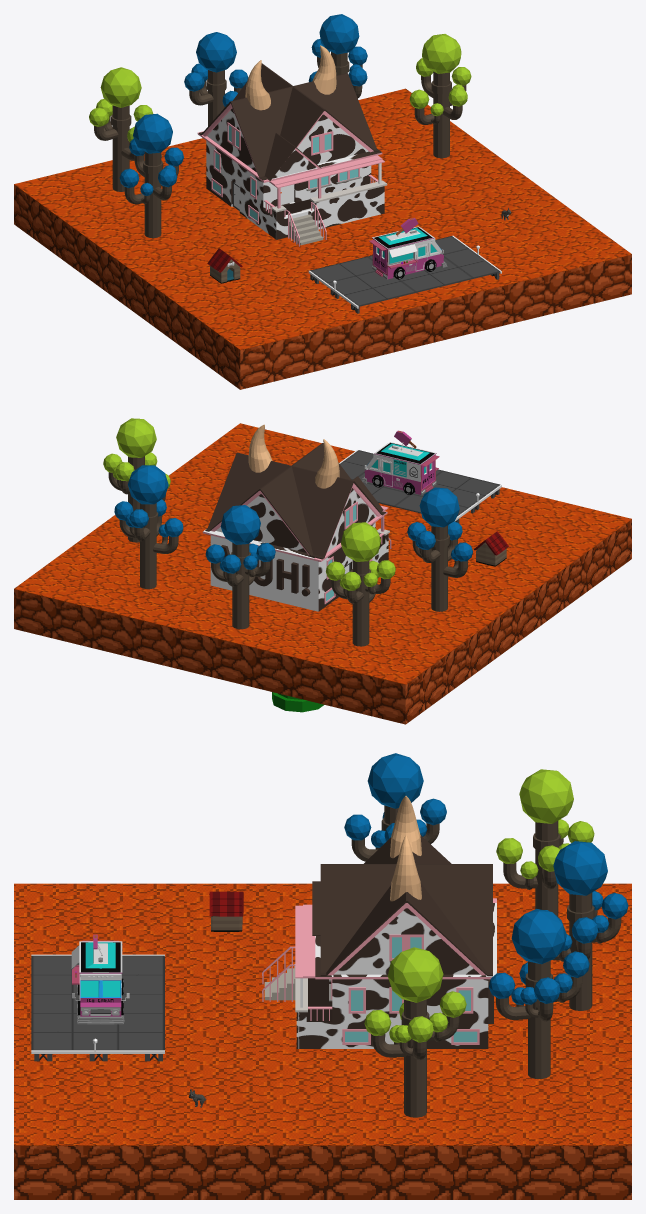
The picture shows the model from 3 angles, top to bottom: view 1: azimuth 30°, elevation 25°; view 2: azimuth 150°, elevation 25°; view 3: azimuth 270°, elevation 25°; orthographic projection. The views are drawn at different scales.
Visible parts, largest first — view 1: Cube.001, Cube.1242, VEHICLES_ICE_CREAM_TRUCK, OBJRANDOM_DOGHOUSE; view 2: Cube.001, Cube.1242, VEHICLES_ICE_CREAM_TRUCK, OBJRANDOM_DOGHOUSE, UNDERGROUND_PIPES; view 3: Cube.001, Cube.1242, VEHICLES_ICE_CREAM_TRUCK, OBJRANDOM_DOGHOUSE.
Part boxes in pixels (left/top/right/bottom): Cube.001: left=14, top=14, right=631, bottom=389; Cube.1242: left=197, top=45, right=387, bottom=246; VEHICLES_ICE_CREAM_TRUCK: left=369, top=218, right=447, bottom=279; OBJRANDOM_DOGHOUSE: left=207, top=248, right=242, bottom=283; Cube.001: left=14, top=418, right=631, bottom=724; Cube.1242: left=202, top=424, right=391, bottom=611; VEHICLES_ICE_CREAM_TRUCK: left=361, top=430, right=439, bottom=494; OBJRANDOM_DOGHOUSE: left=473, top=531, right=508, bottom=566; UNDERGROUND_PIPES: left=272, top=692, right=324, bottom=712; Cube.001: left=14, top=753, right=631, bottom=1199; Cube.1242: left=262, top=796, right=496, bottom=1048; VEHICLES_ICE_CREAM_TRUCK: left=71, top=934, right=129, bottom=1024; OBJRANDOM_DOGHOUSE: left=209, top=891, right=243, bottom=931.
Size of the model in its own units: 4000 by 2466 by 4000.
Materials: 48 (4 with a texture image).
